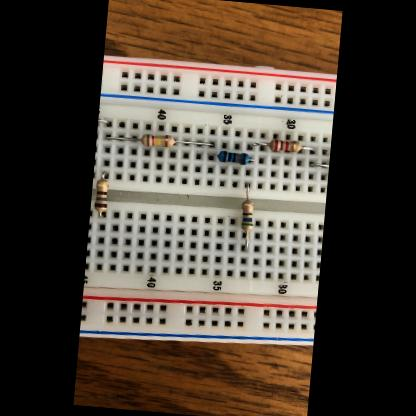breadboard: (80, 52, 338, 358)
resistor: (140, 134, 175, 150), (94, 177, 110, 212), (240, 200, 256, 232), (268, 139, 302, 154), (219, 150, 250, 166)
wire: (106, 136, 140, 143), (175, 140, 214, 146), (248, 141, 268, 151), (243, 232, 249, 250), (310, 163, 328, 168), (302, 146, 315, 152), (245, 184, 250, 199), (98, 120, 110, 126), (102, 172, 109, 178), (208, 153, 218, 157), (99, 213, 105, 219), (250, 158, 255, 162)
